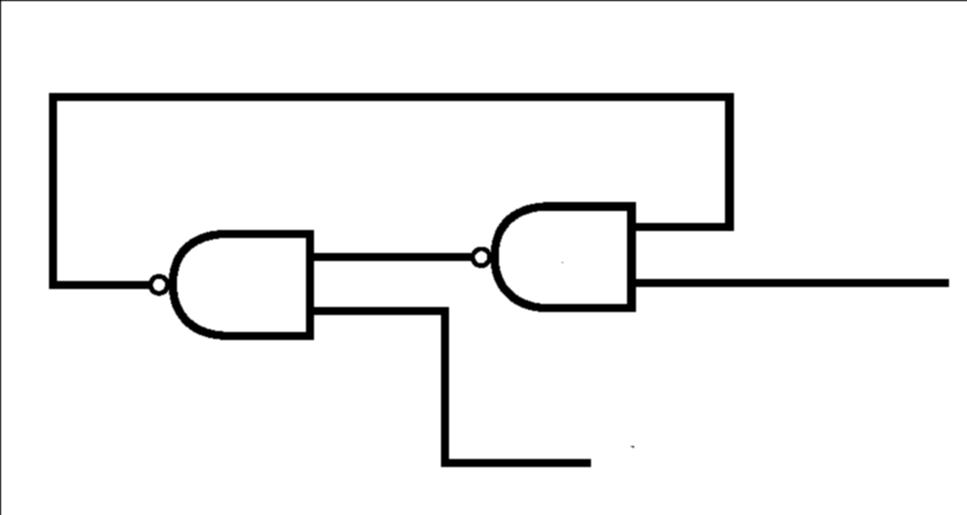nand: (118, 211, 347, 360), (448, 184, 676, 329)
